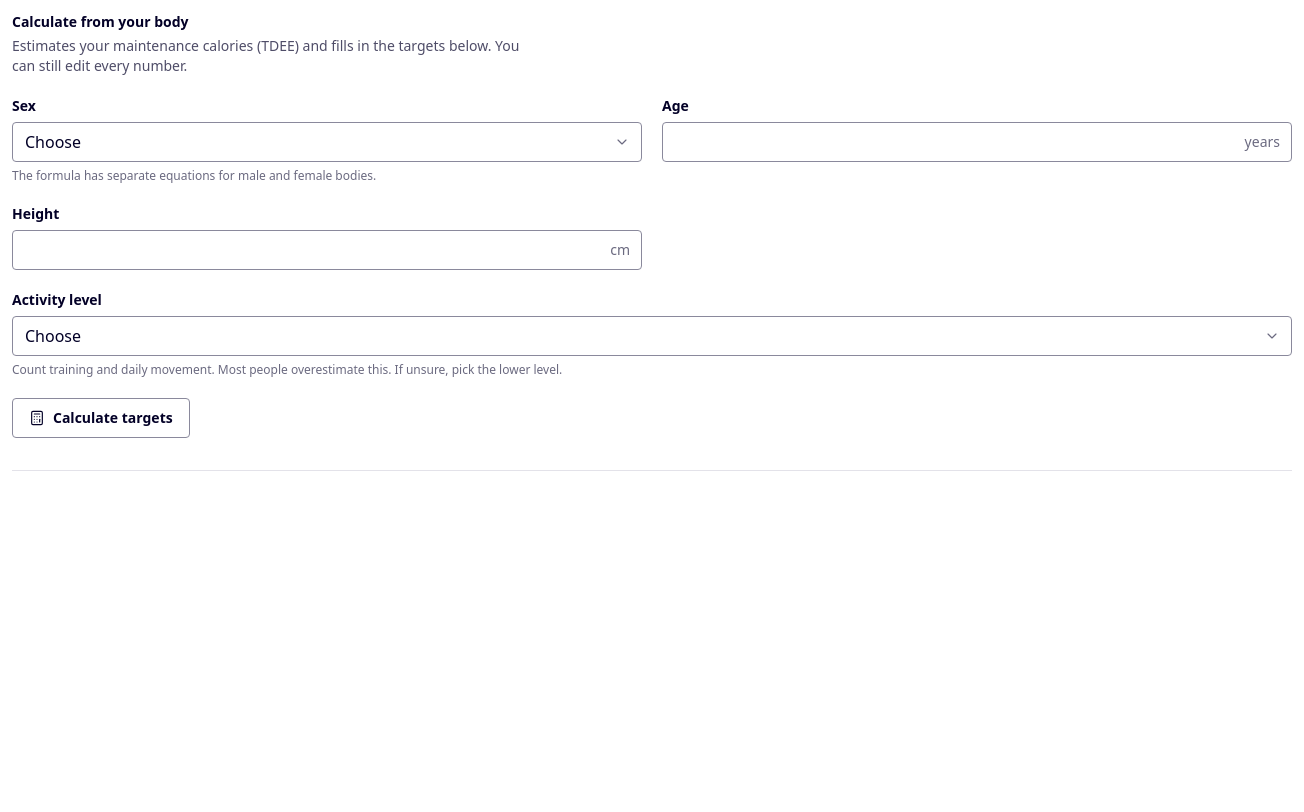
Test case: TargetCalculator › validates, then fills targets and returns the inputs to store
Click the button "Calculate targets". click: (101,418)
box: x1=12 y1=398 x2=190 y2=438
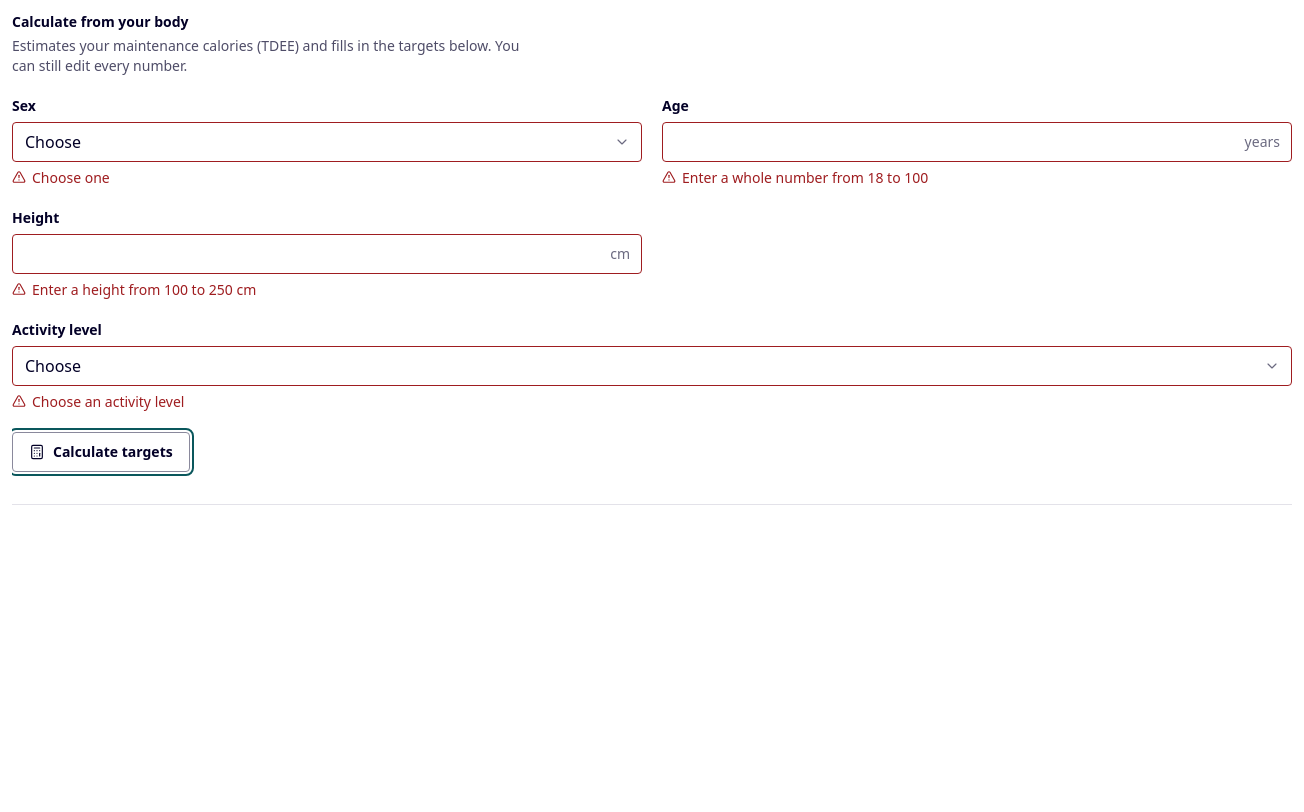
Select "Male" in the dropdown labelled "Sex". click: (327,142)
box: x1=12 y1=122 x2=642 y2=162
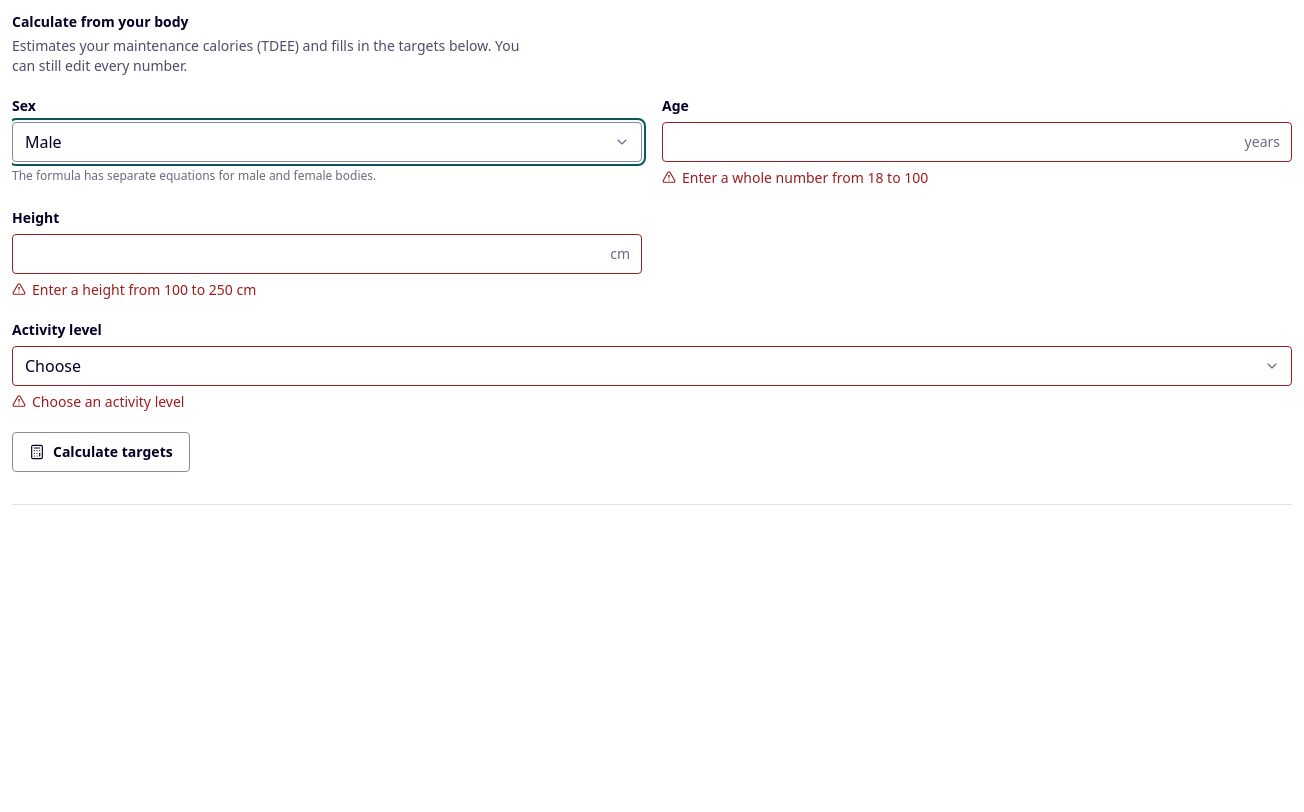
Type "30" into the number field labelled "Age". click: (977,142)
box: x1=662 y1=122 x2=1292 y2=162
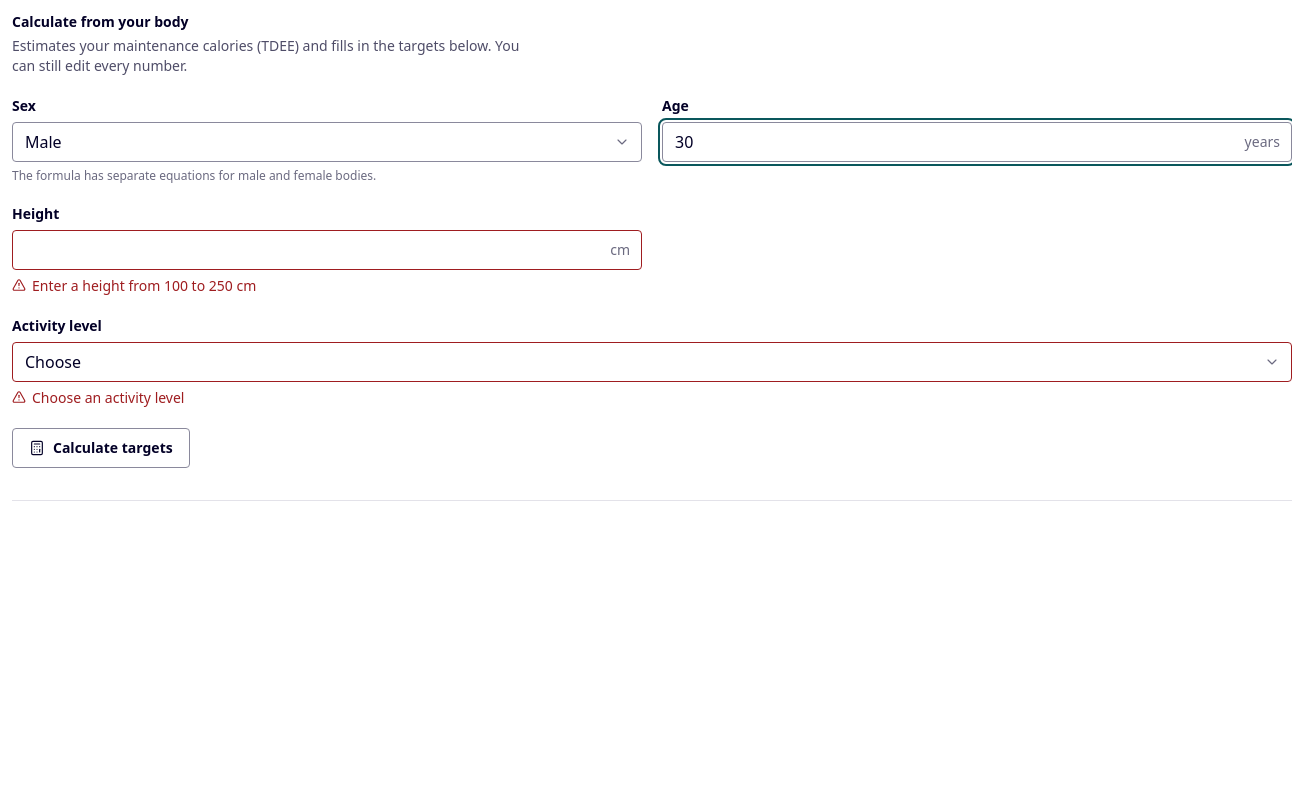
Type "180" into the number field labelled "Height". click: (327,250)
box: x1=12 y1=230 x2=642 y2=270
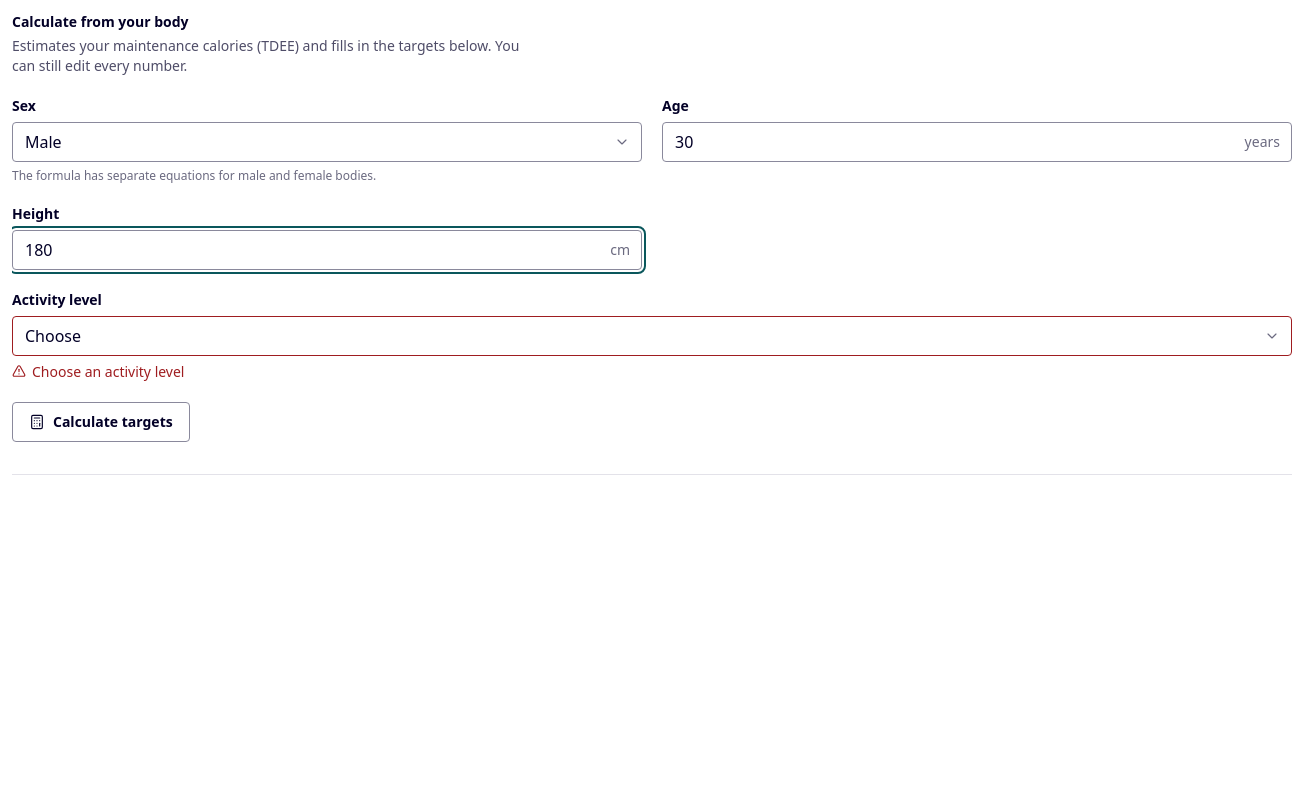
Select "Moderately active: exercise 3 to 5 days a week" in the dropdown labelled "Activity level". click: (652,336)
box: x1=12 y1=316 x2=1292 y2=356
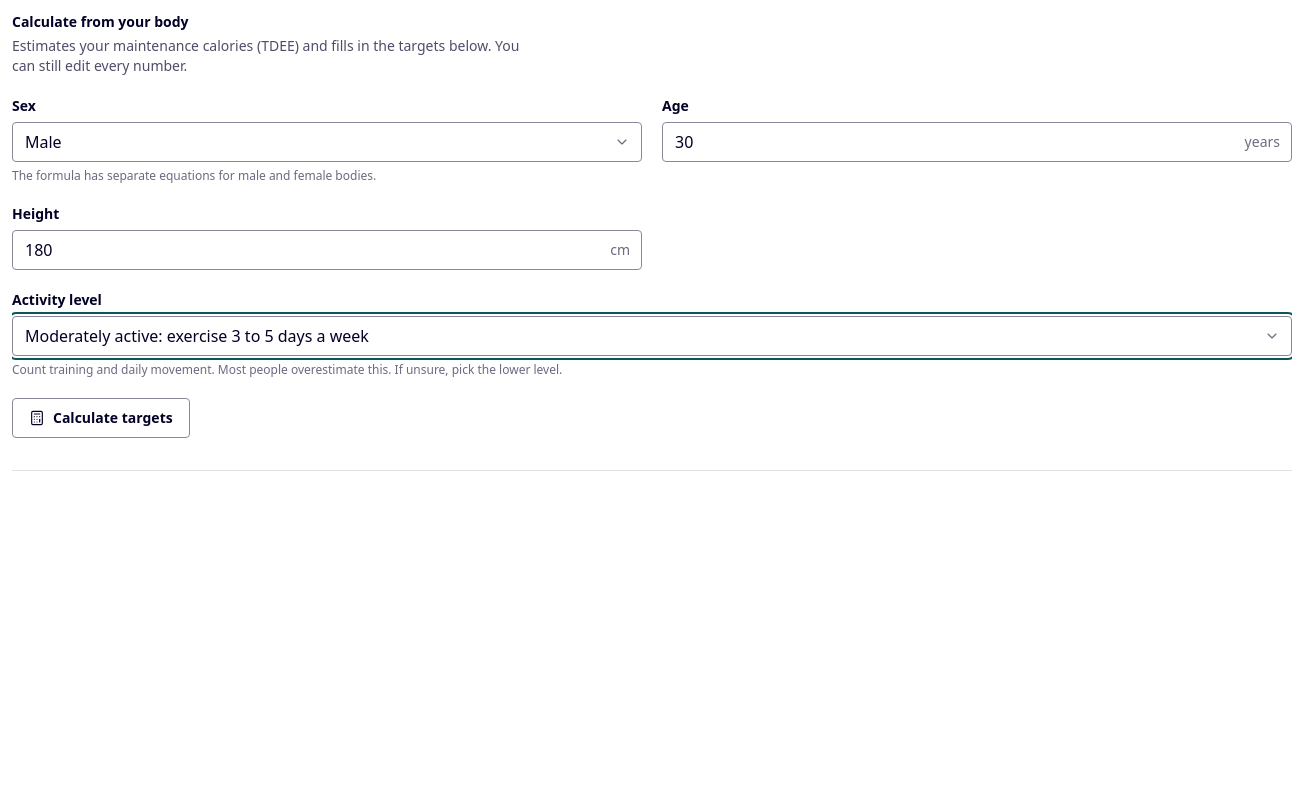
Click the button "Calculate targets". click: (101,418)
box: x1=12 y1=398 x2=190 y2=438
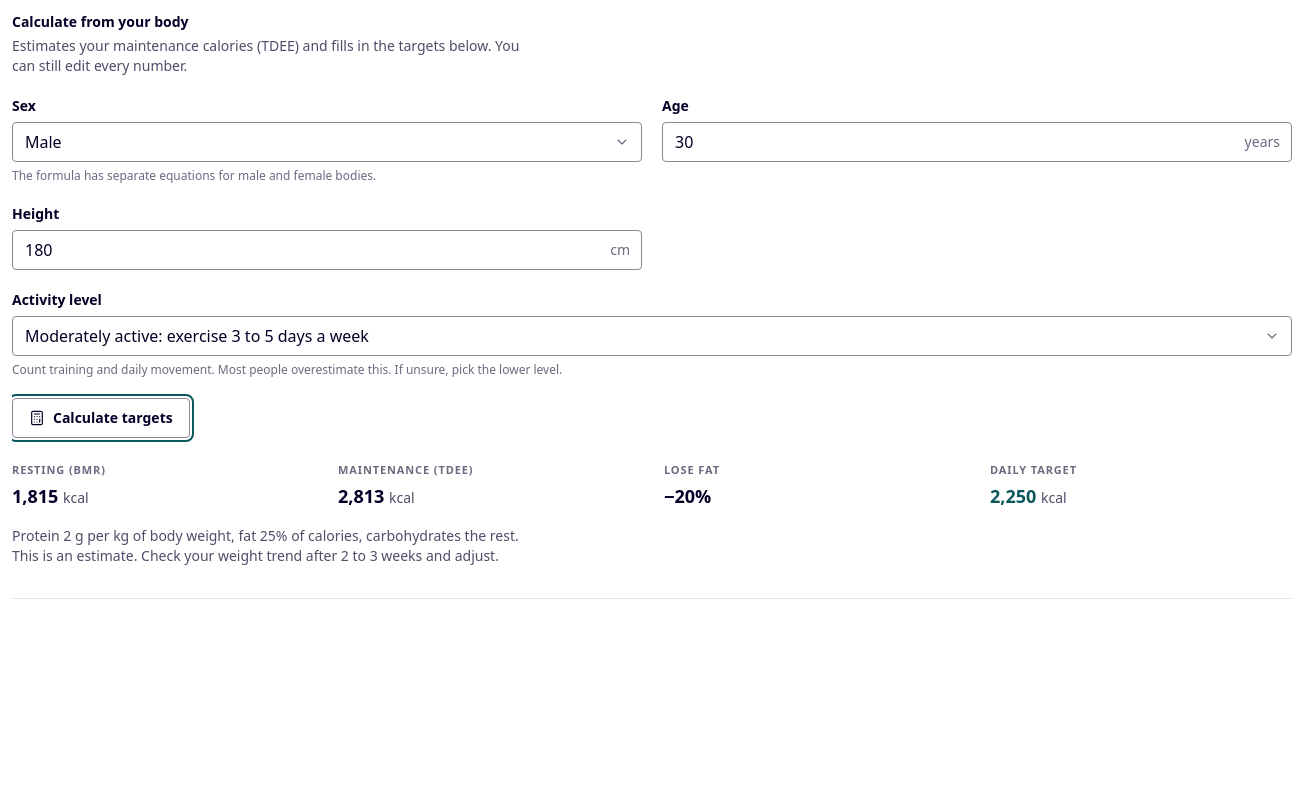
Now the text "Maintenance (TDEE)" is shown, box x1=338 y1=462 x2=473 y2=477
